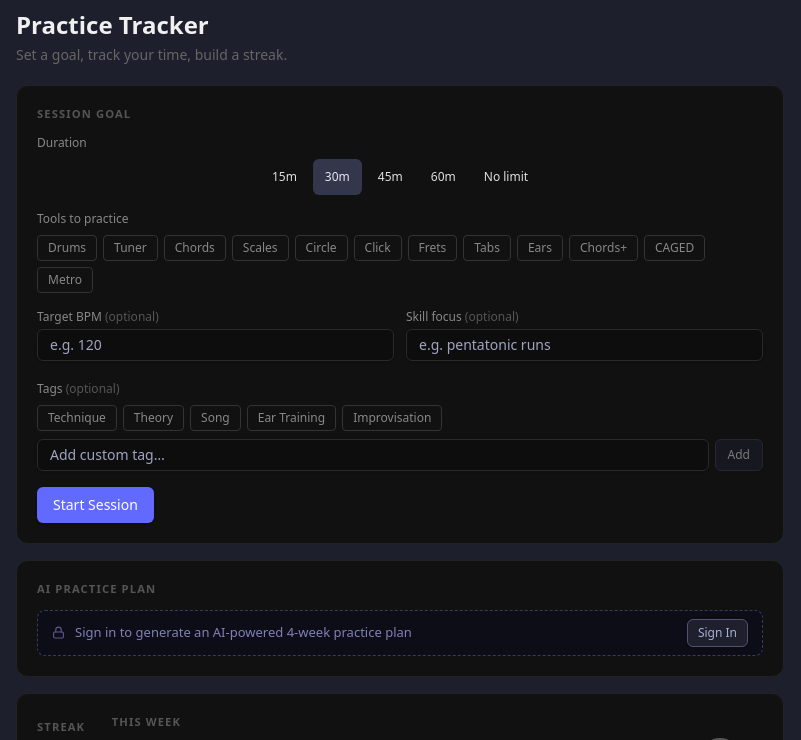
Test: PracticeSessionPage – custom tag input › pressing Enter in the custom tag input adds a chip and clears the input
Type "Sweep Picking" into the field with placeholder "Add custom tag…" at (373, 455), box [37, 439, 709, 471]
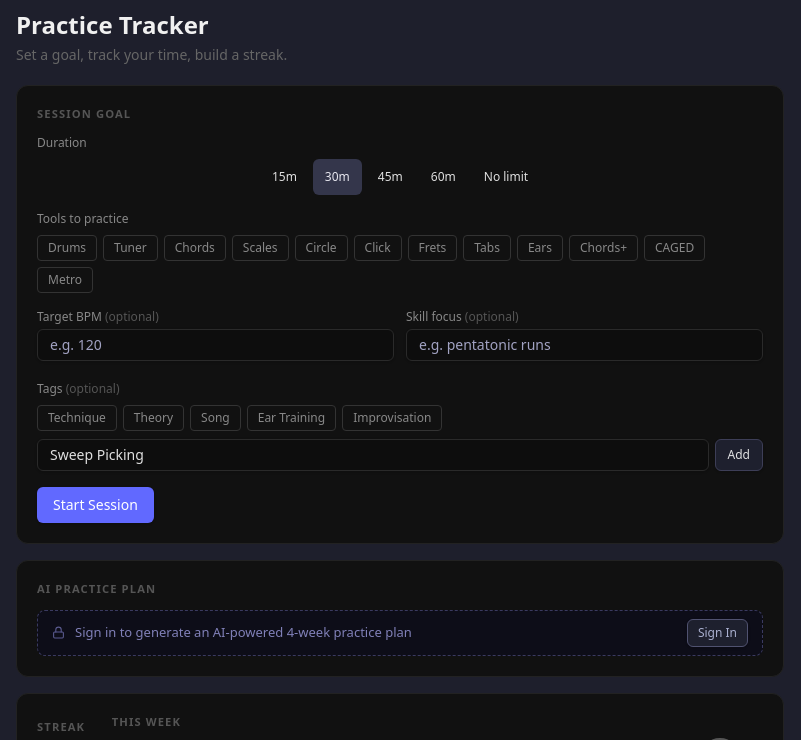
Press Enter in the field with placeholder "Add custom tag…", box [37, 439, 709, 471]
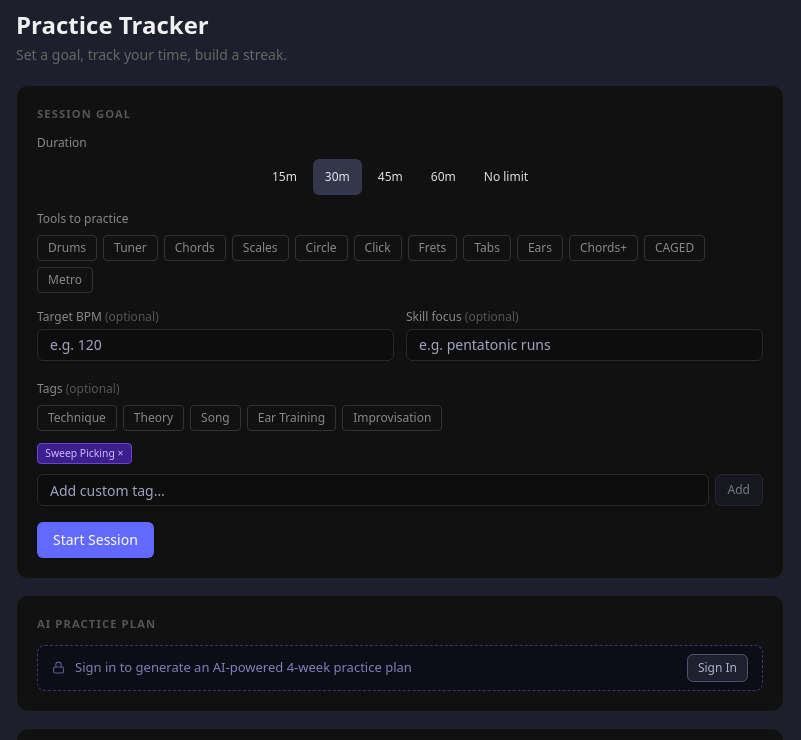
Now the button "Sweep Picking ×" is shown, box [37, 443, 132, 464]
Now the field with placeholder "Add custom tag…" is empty, box [37, 474, 709, 506]
